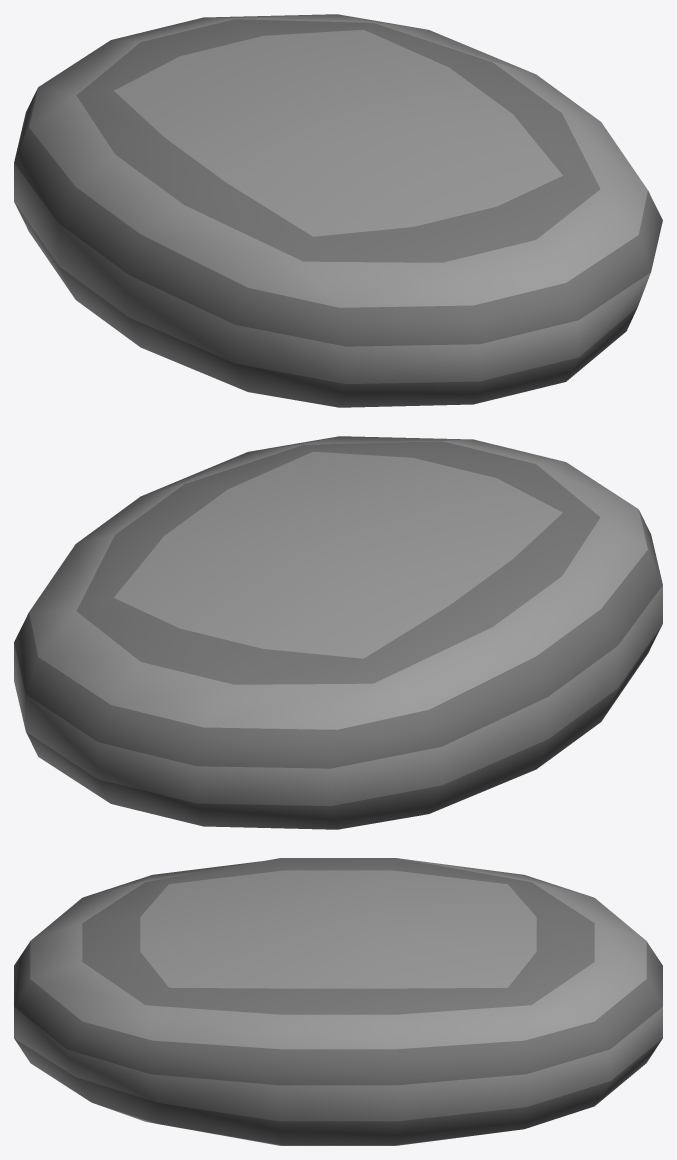
The model's file is roundRock-01_col.fbx.
3 views of the same model, one above another, from view 1: azimuth 30°, elevation 25°; view 2: azimuth 150°, elevation 25°; view 3: azimuth 270°, elevation 25° (orthographic). The views are drawn at different scales.
Parts seen in each view (by area): view 1: roundRock-01.col; view 2: roundRock-01.col; view 3: roundRock-01.col.
Boxes of the visible parts, x1,y1,x2,y2 form: roundRock-01.col: (14,14,662,407); roundRock-01.col: (14,436,662,829); roundRock-01.col: (14,858,662,1145).
Bounding box in the file's own units: 0.1556 × 0.0568 × 0.2107.
Materials: 1 (1 with a texture image).
